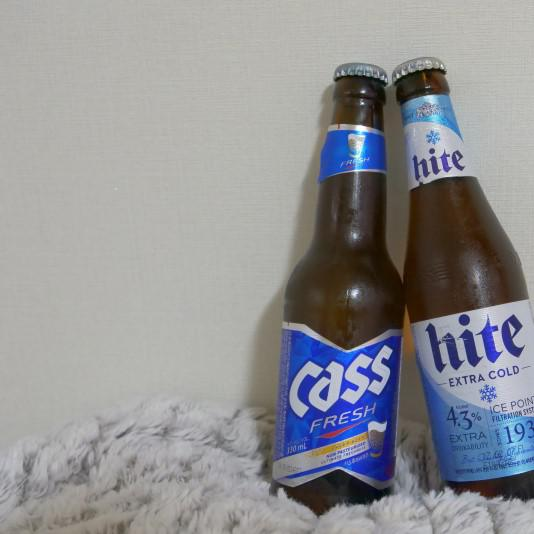beer: (275, 55, 534, 503)
